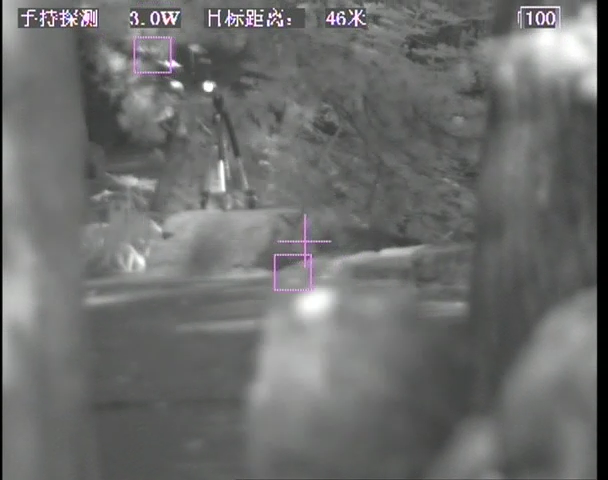my: (201, 79, 215, 94)
